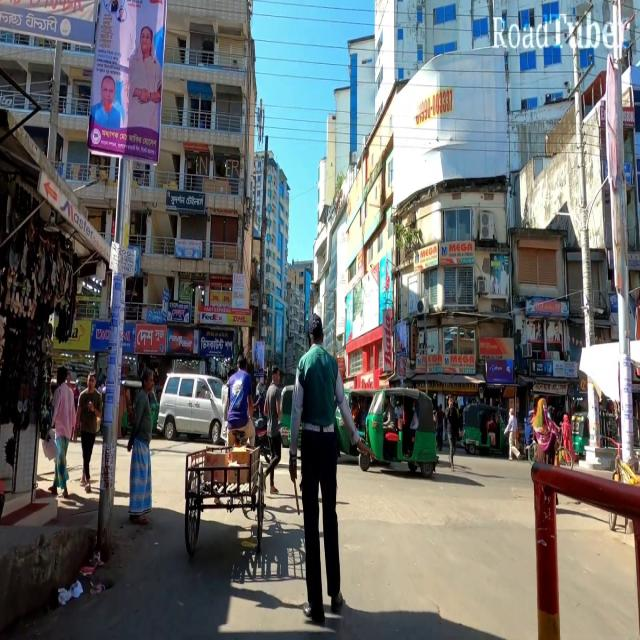white: (159, 371, 222, 444)
